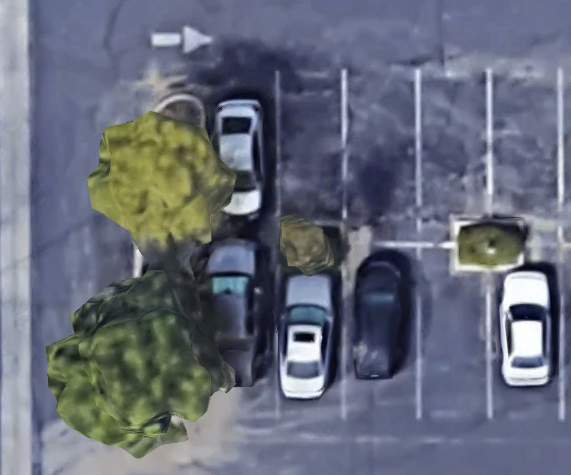Occupied: (203, 71, 279, 245), (203, 244, 278, 419), (344, 244, 419, 417), (490, 271, 562, 418), (277, 267, 343, 418)
Vacant: (344, 71, 418, 244), (417, 71, 490, 220), (418, 270, 490, 418), (490, 71, 561, 221), (279, 70, 345, 223)
